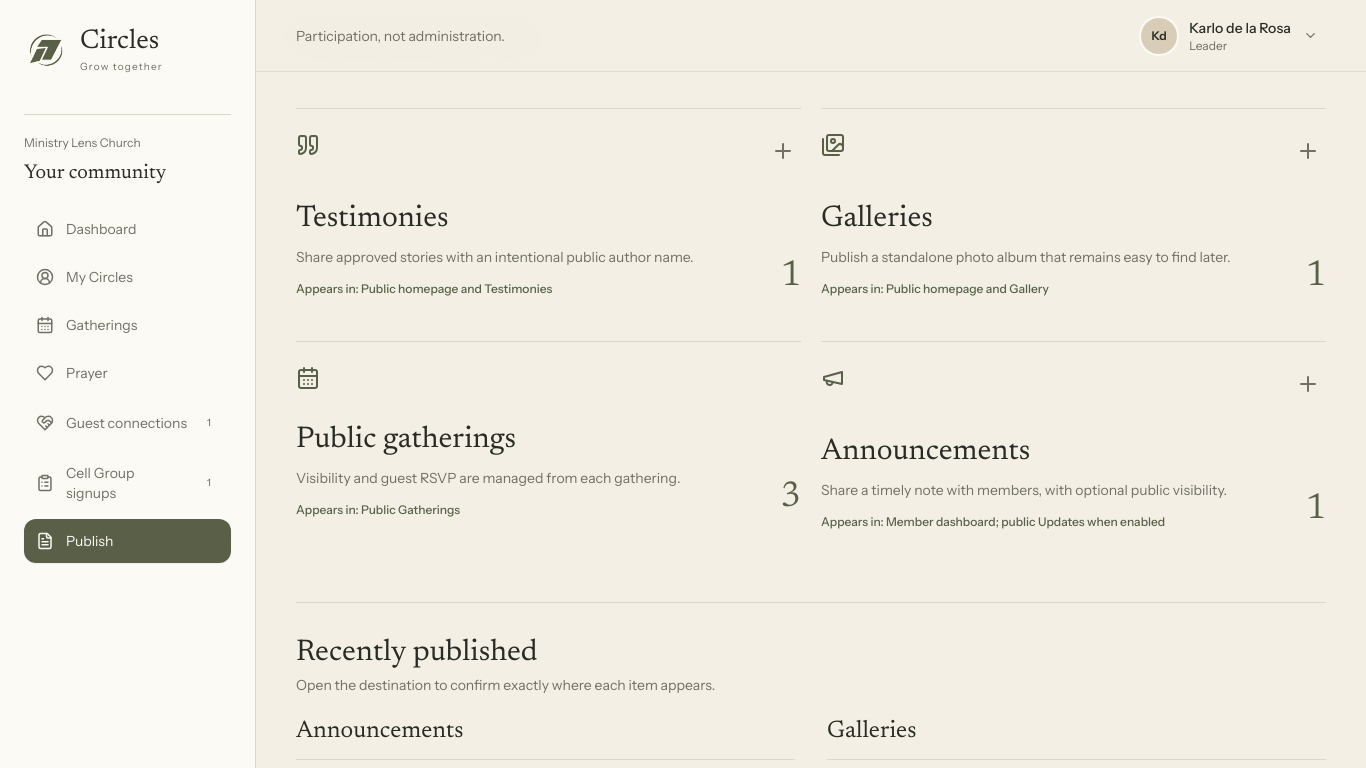
Scenario: Circles MVP › explains announcement audiences and keeps galleries discoverable in Publish
(page scrolled)
Click the button named "Add Announcements" at (1308, 384), box [1290, 366, 1326, 402]
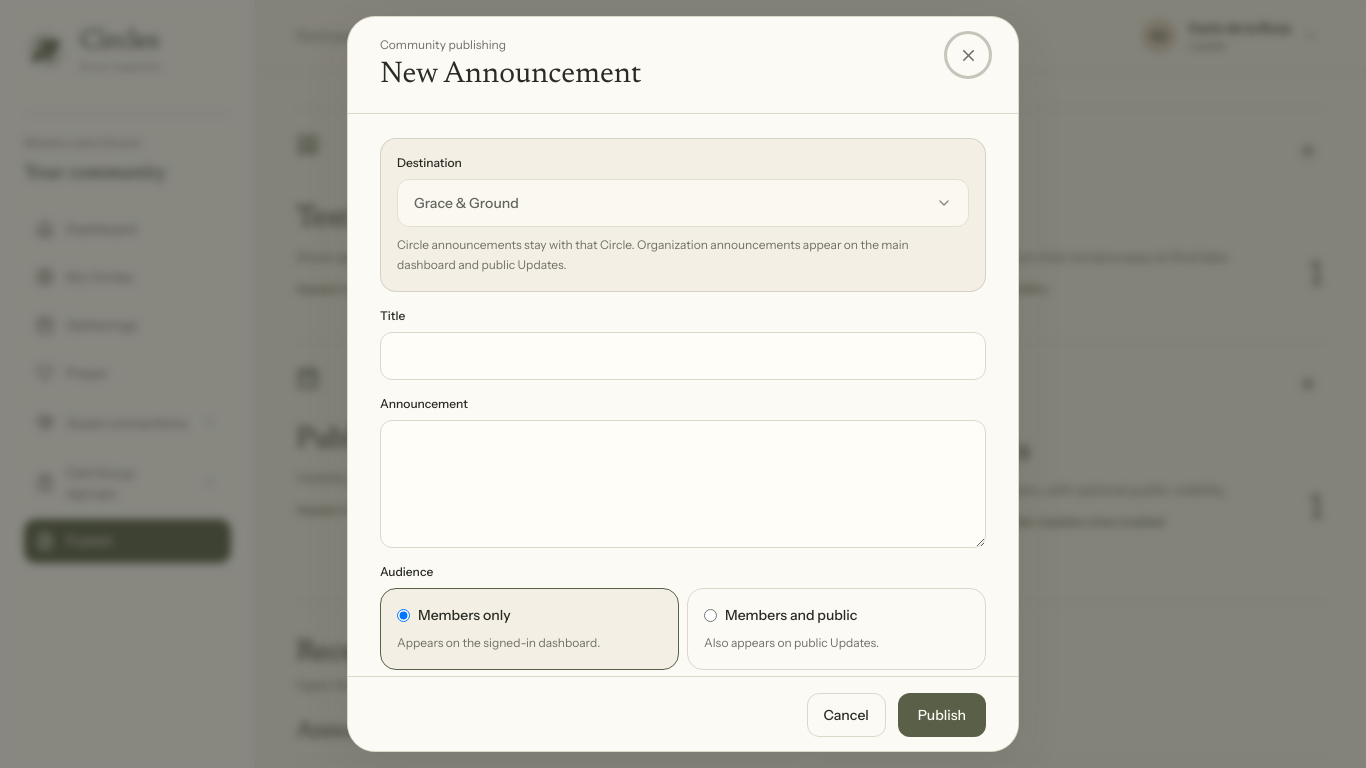
Check: the radio button labelled "Members only" is checked, box [397, 608, 410, 622]
Check: the radio button labelled "Members and public" is not checked, box [704, 608, 717, 622]
